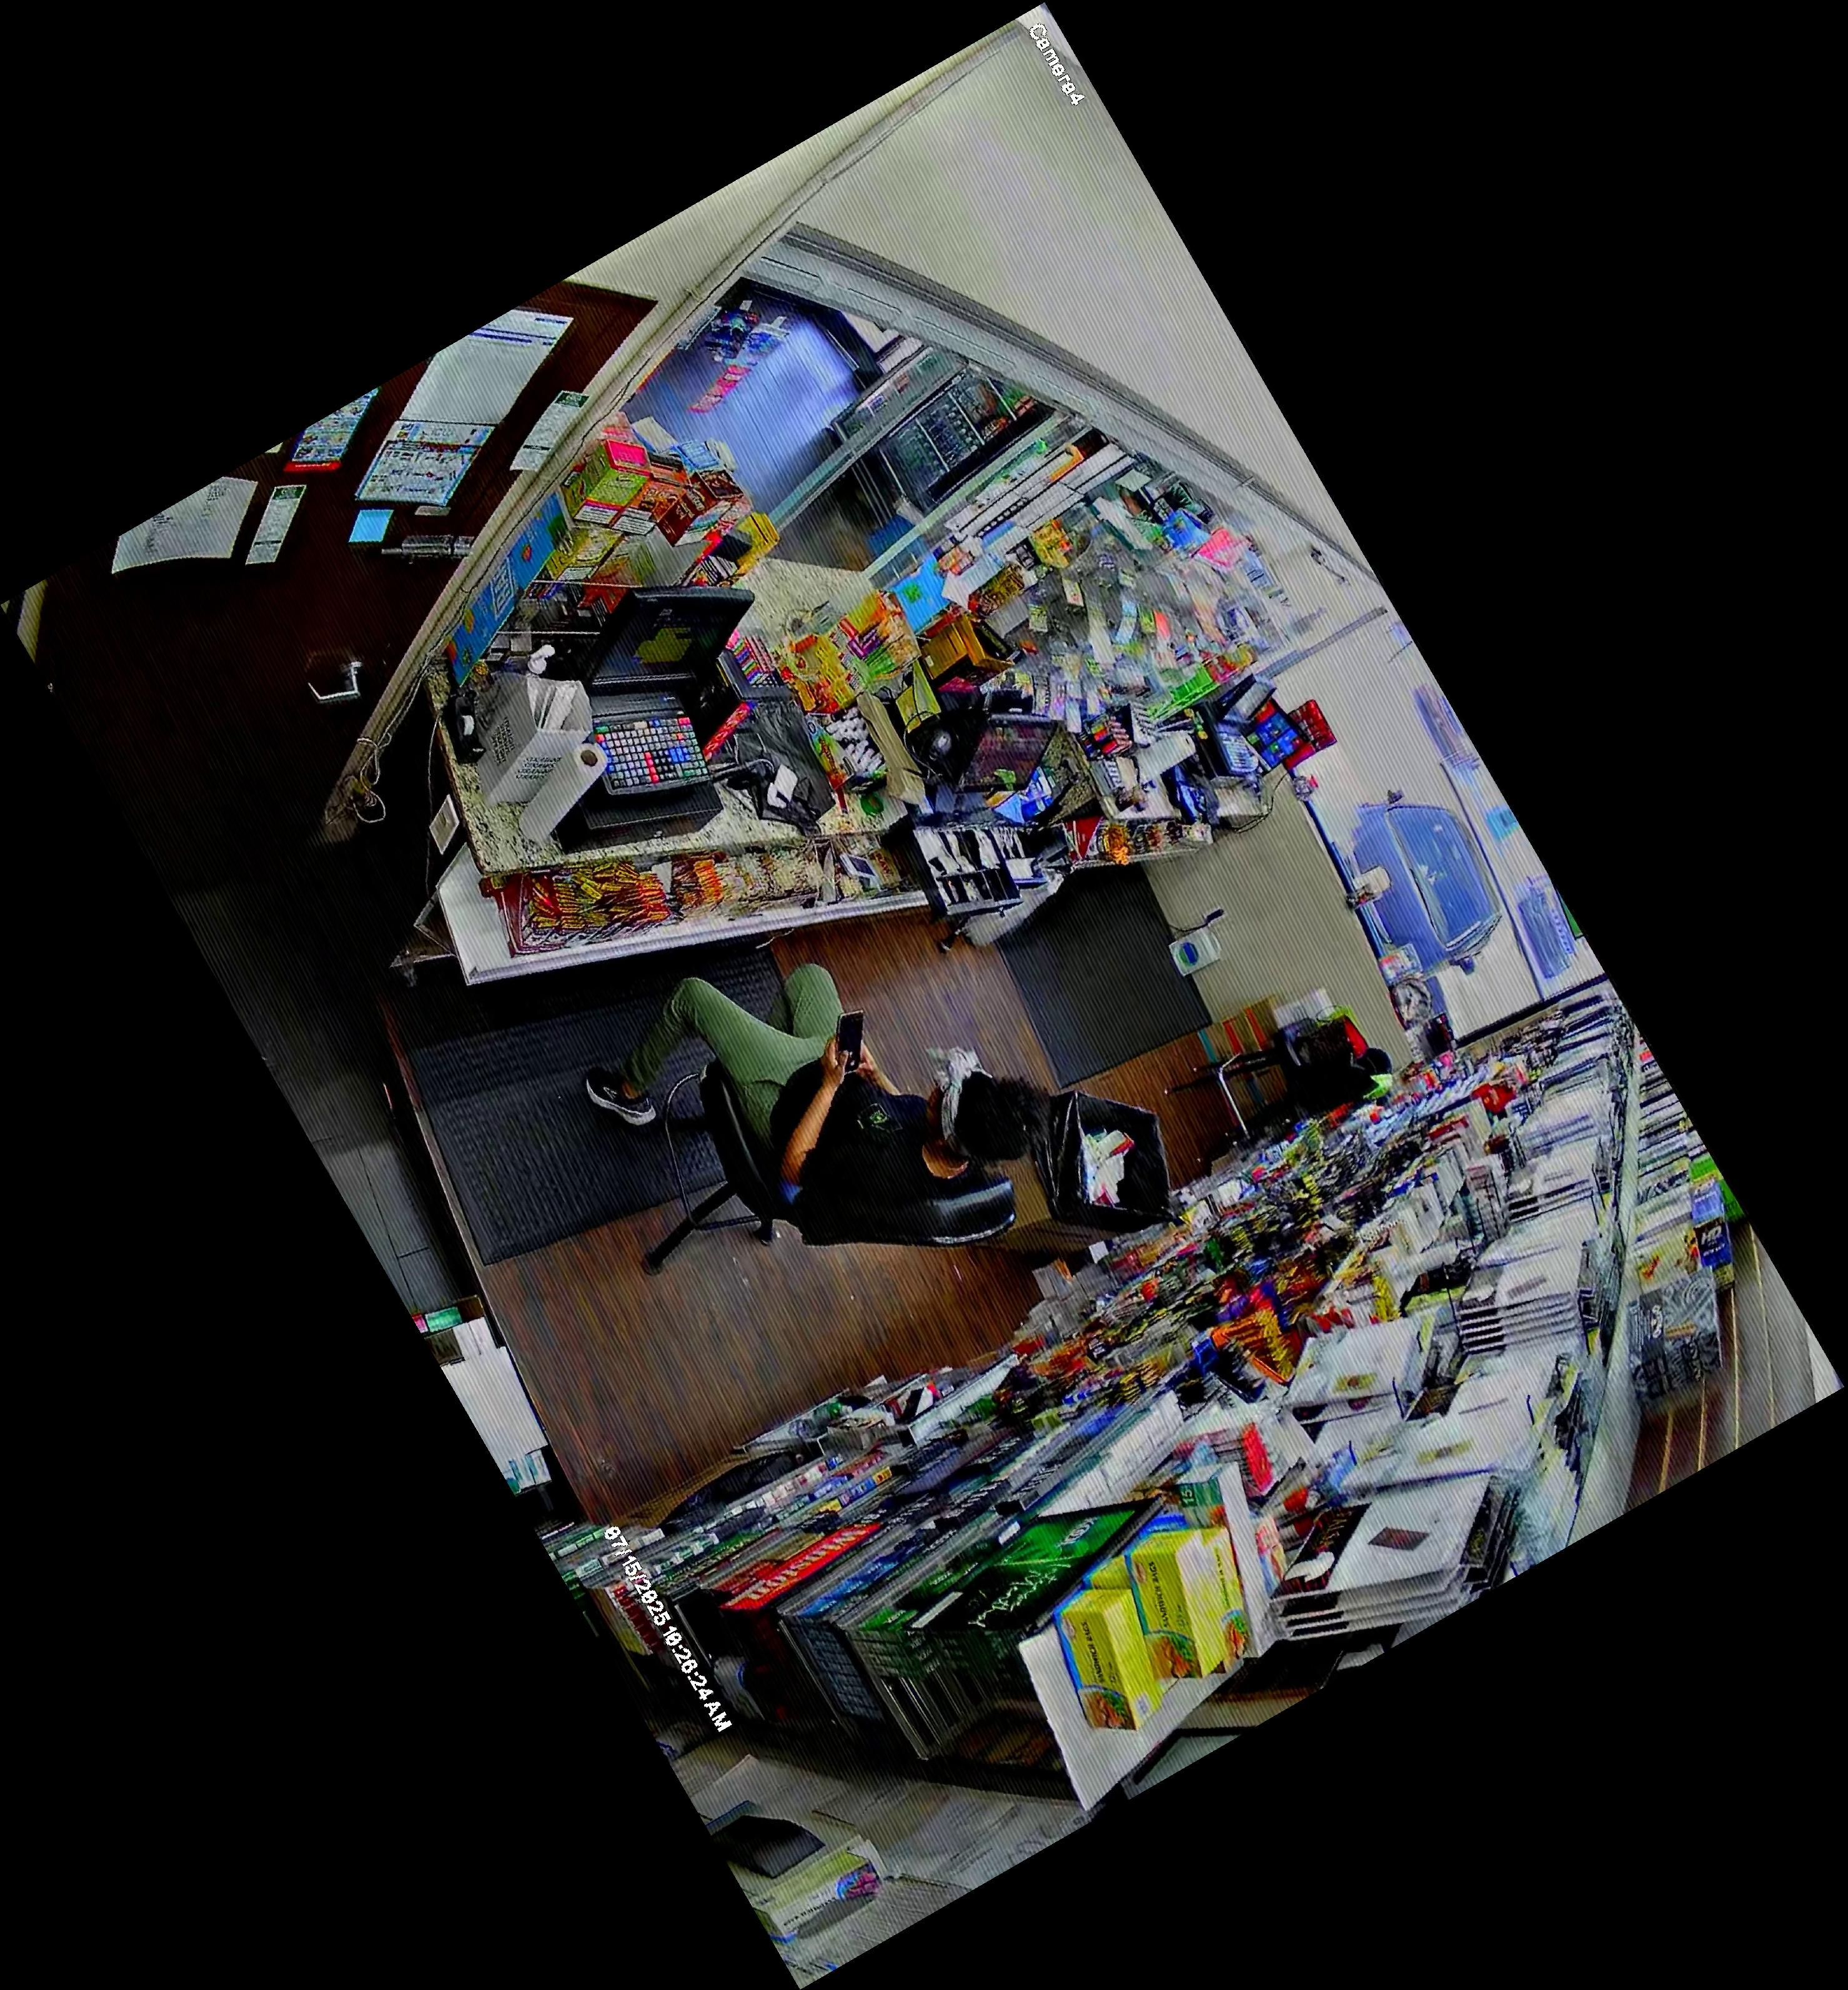phone: (825, 1000, 874, 1082)
